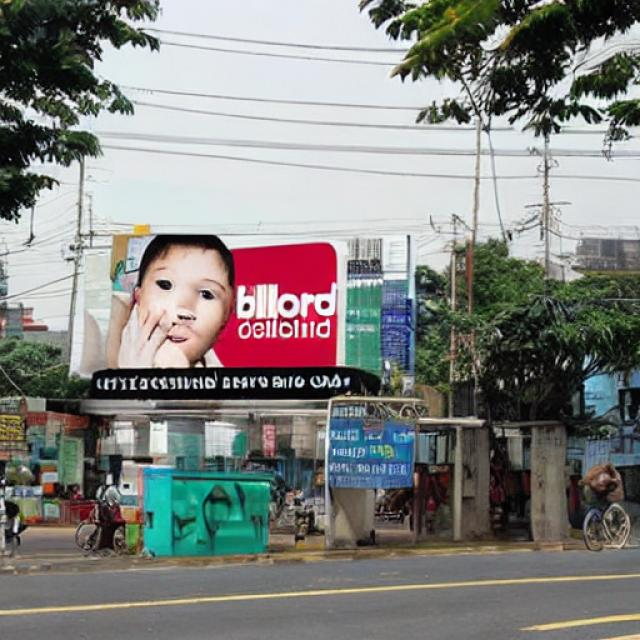Billboard: (63, 227, 383, 406)
